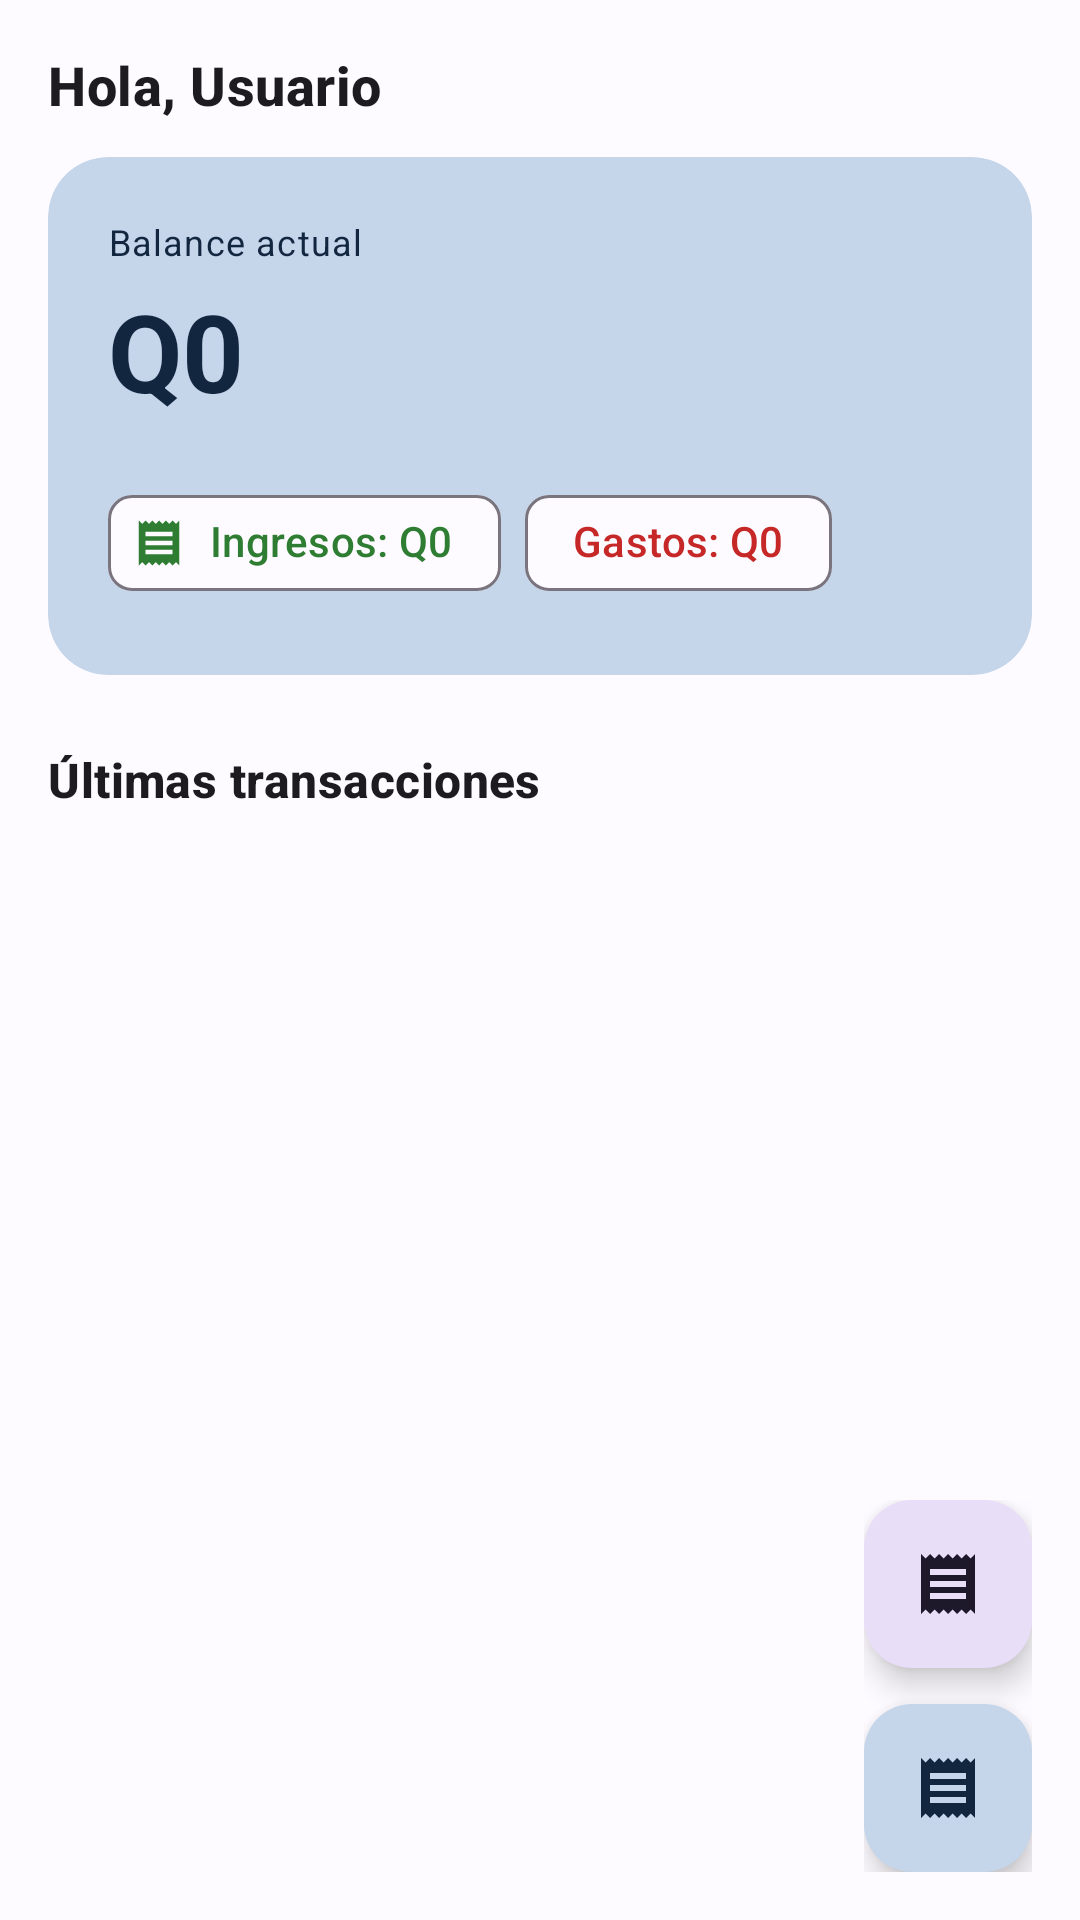

Where icons sit on this 1080 × 1920 app screen, as box=[x1, y1, x2, y2]:
Agregar Transacción: box=[864, 1704, 1032, 1872]
